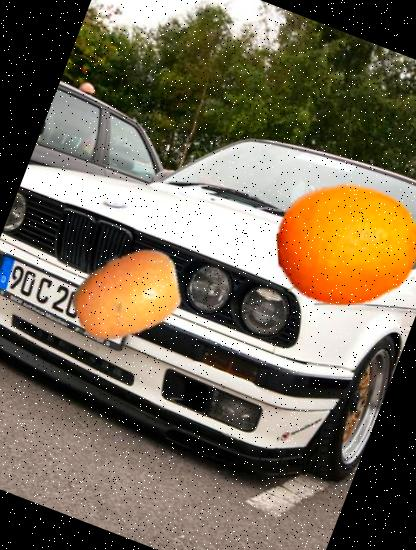Kumquats: (53, 222, 202, 371)
Lemon: (254, 148, 416, 342)
